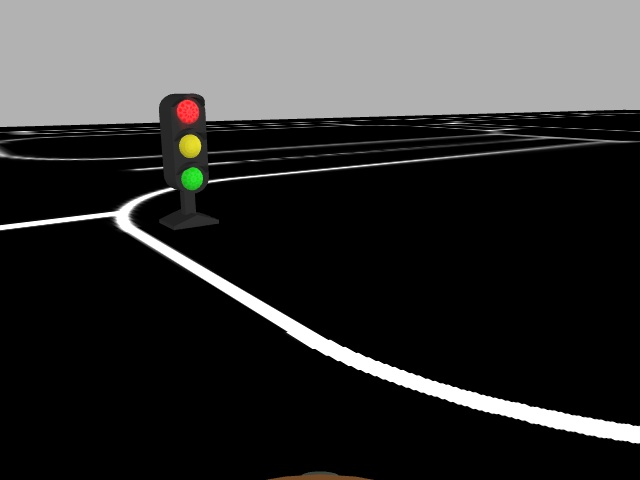red_light: (164, 93, 211, 193)
